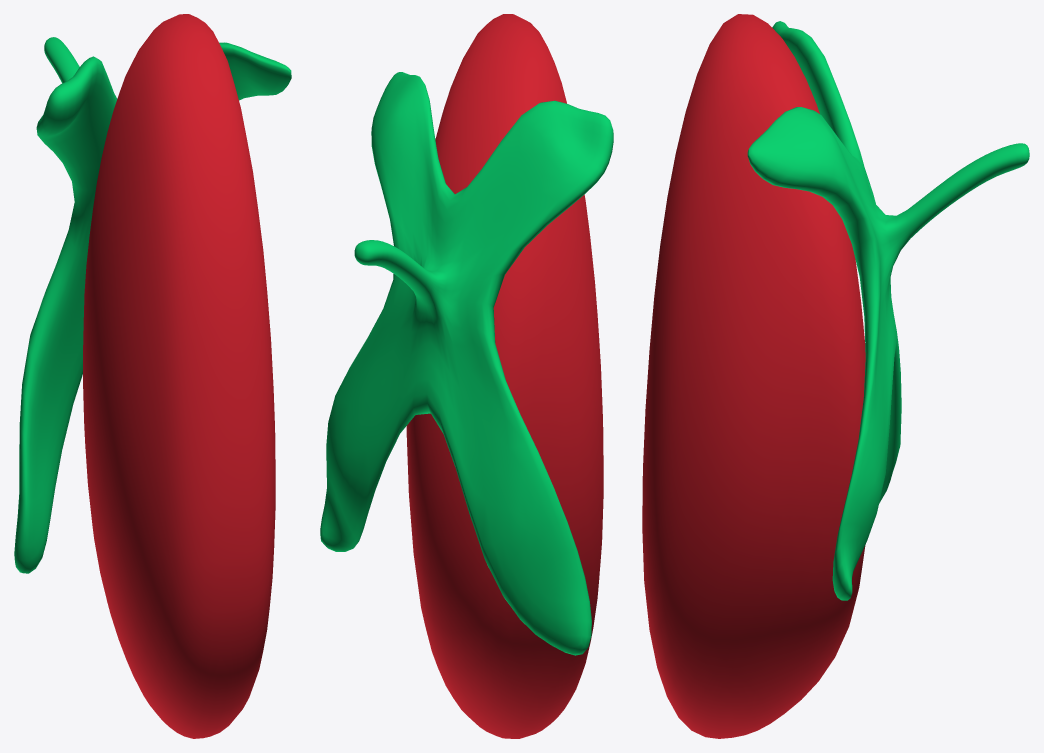
The model's file is stretchystrawberry.fbx.
3 views of the same model, side by side, from view 1: azimuth 30°, elevation 25°; view 2: azimuth 150°, elevation 25°; view 3: azimuth 270°, elevation 25° (orthographic). The views are drawn at different scales.
Visible parts, largest first — view 1: polySurface6; view 2: polySurface6; view 3: polySurface6.
Part boxes in pixels (x1,y1,x2,y2): polySurface6: (14,14,291,738); polySurface6: (320,14,613,738); polySurface6: (642,14,1029,738).
Bounding box in the file's own units: 0.8737 × 2.29 × 1.12.
